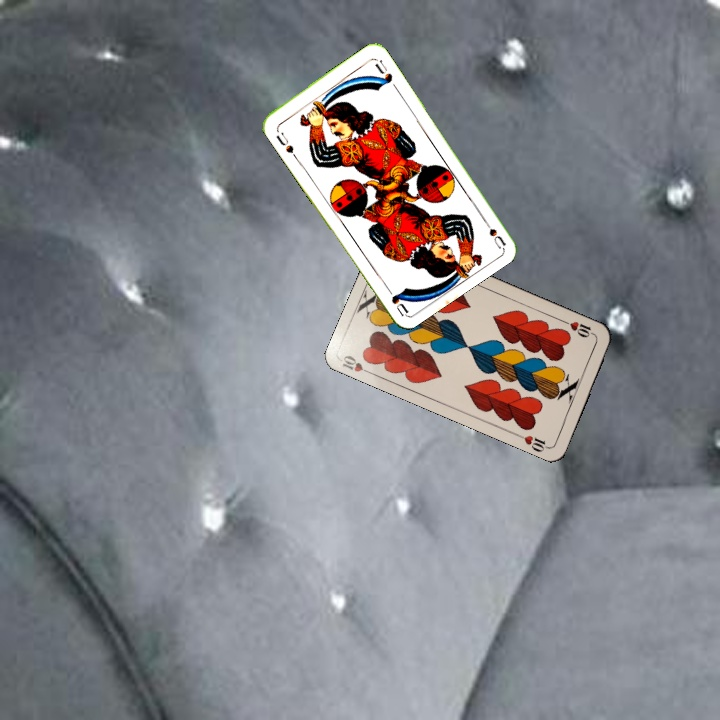H10: (337, 351, 376, 378), (559, 316, 598, 340)
SU: (478, 212, 507, 250), (272, 128, 296, 156)
